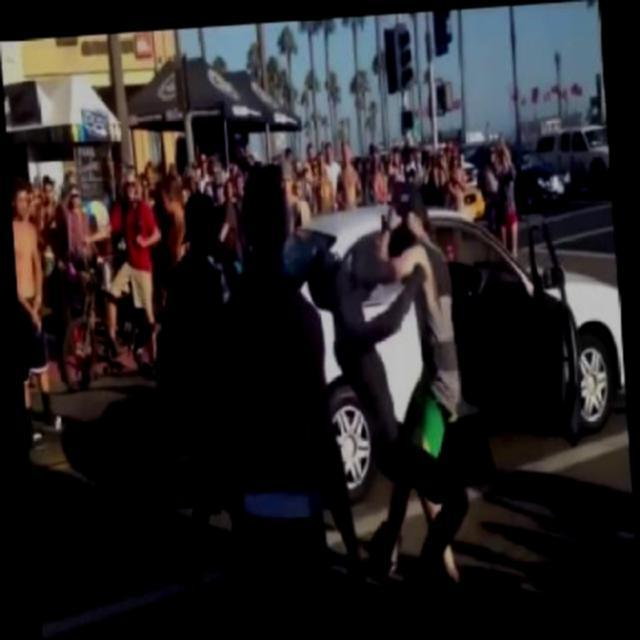fight: (301, 178, 477, 592)
non-fight: (208, 156, 364, 613), (147, 195, 247, 614)
